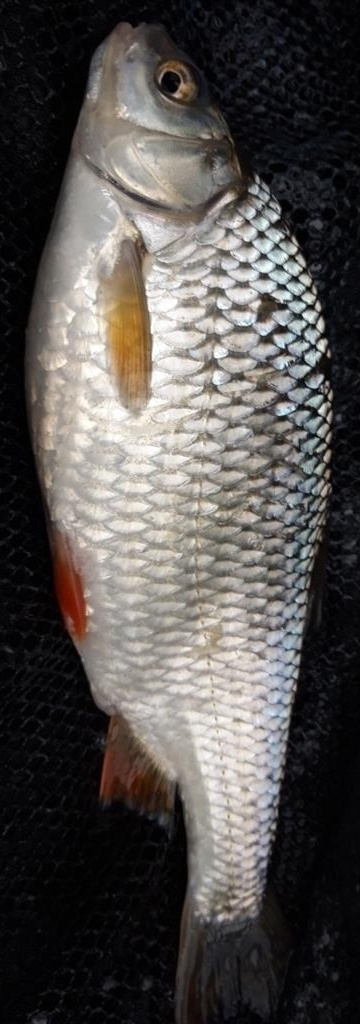Scardinius erythrophthalmus: (20, 16, 340, 1024)
